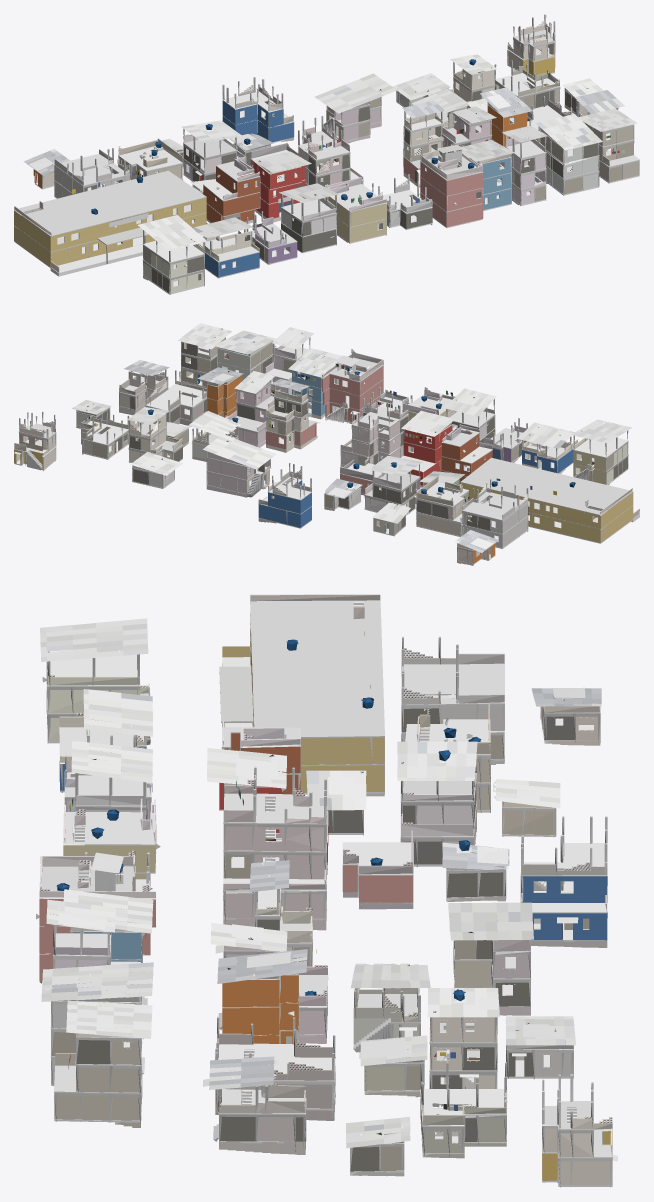
The picture shows the model from 3 angles, top to bottom: view 1: azimuth 30°, elevation 25°; view 2: azimuth 150°, elevation 25°; view 3: azimuth 270°, elevation 25°; orthographic projection. The views are drawn at different scales.
Visible parts, largest first — view 1: T_28_22; view 2: T_28_22; view 3: T_28_22.
Boxes of the visible parts, <box> form: T_28_22: <box>14,14,639,294</box>; T_28_22: <box>14,323,639,565</box>; T_28_22: <box>36,594,617,1187</box>.
Bounding box in the file's own units: 113 × 13.61 × 53.81.
